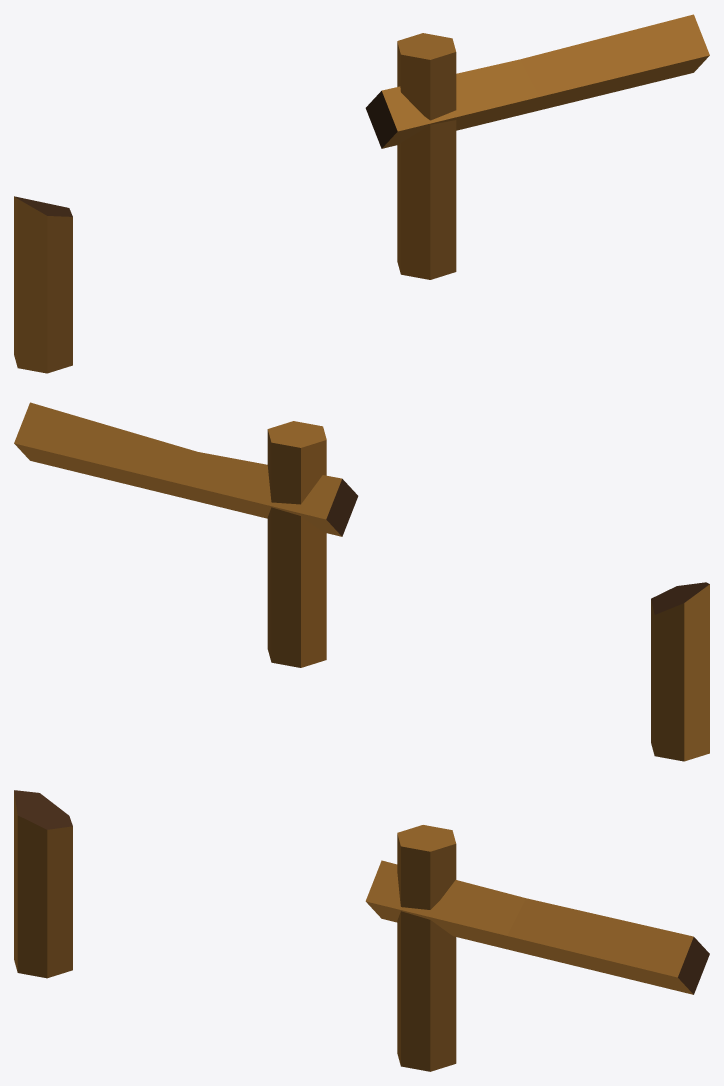
The model's file is Wall.fbx.
3 views of the same model, one above another, from view 1: azimuth 30°, elevation 25°; view 2: azimuth 150°, elevation 25°; view 3: azimuth 330°, elevation 25° (orthographic).
Visible parts, largest first — view 1: Cube.002, Cylinder.001, Cylinder.002; view 2: Cube.002, Cylinder.001, Cylinder.002; view 3: Cube.002, Cylinder.001, Cylinder.002.
Part boxes in pixels (x1,y1,x2,y2): Cube.002: (365,14,709,148); Cylinder.001: (397,33,456,279); Cylinder.002: (14,196,72,373); Cube.002: (14,402,358,536); Cylinder.001: (267,421,326,667); Cylinder.002: (651,582,709,761); Cube.002: (365,860,709,994); Cylinder.001: (397,825,456,1071); Cylinder.002: (14,790,72,978).
Bounding box in the file's own units: 1305 × 405 × 107.
